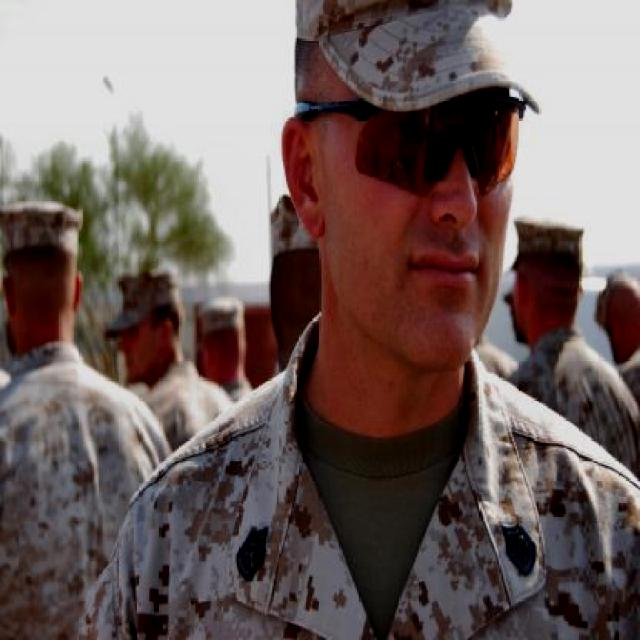face_nomask: (339, 95, 516, 312)
glasses: (306, 73, 532, 213)
head_nohelmet: (279, 0, 527, 97), (0, 182, 93, 265), (512, 218, 593, 274), (109, 261, 178, 322)
person: (120, 0, 640, 640), (0, 198, 156, 639), (504, 223, 602, 440), (116, 262, 216, 450)
